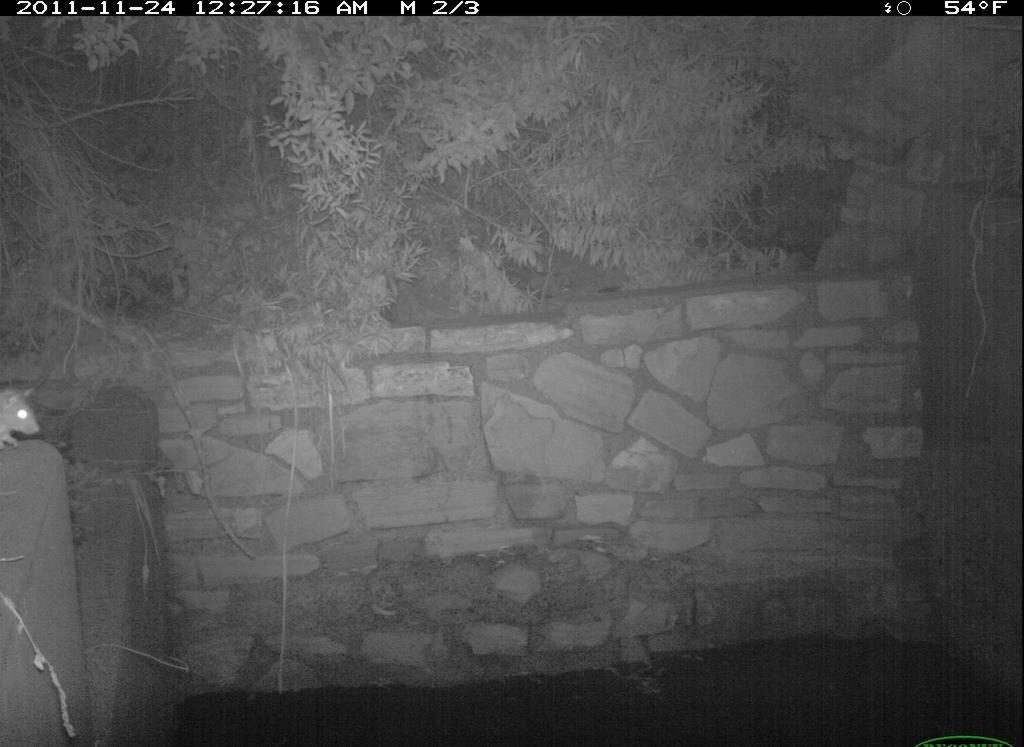rodent: (1, 370, 52, 461)
